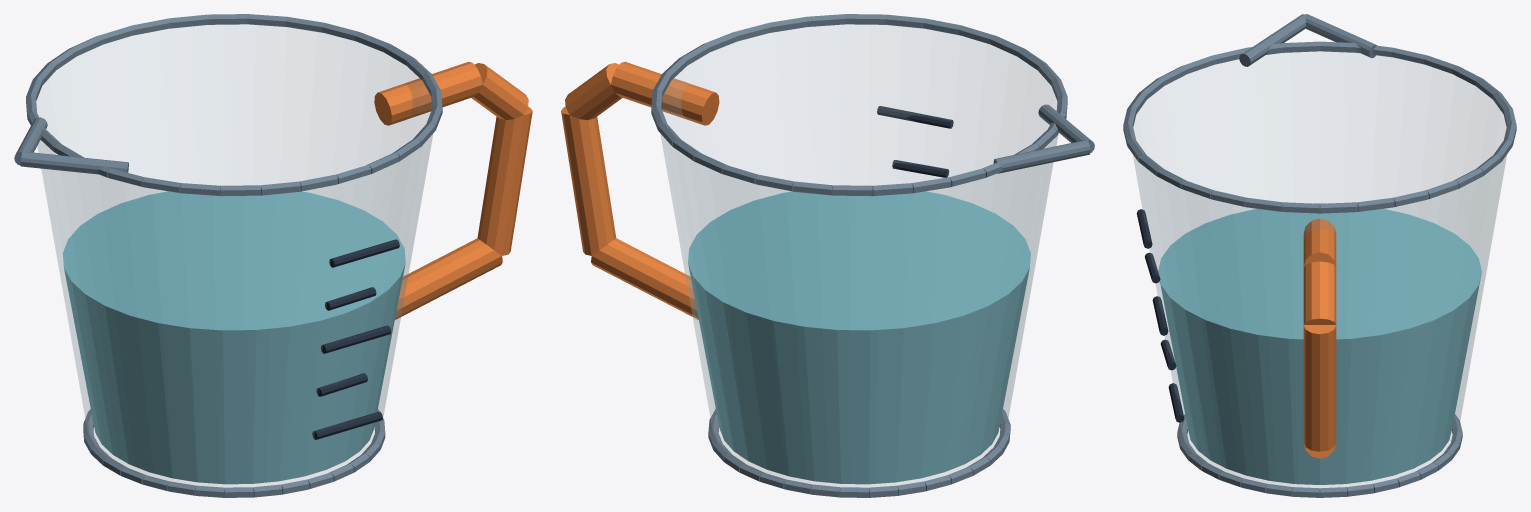
The model's file is jug.glb.
3 views of the same model, side by side, from view 1: azimuth 30°, elevation 25°; view 2: azimuth 150°, elevation 25°; view 3: azimuth 270°, elevation 25° (orthographic). The views are drawn at different scales.
Visible parts, largest first — view 1: glass wall, liquid, handle2, handle3, handle0, handle1, pour lip0, tick 4, tick 2, tick 0, pour lip1; view 2: glass wall, liquid, handle2, handle3, handle0, handle1, pour lip1, pour lip0, tick 4; view 3: glass wall, liquid, handle2, handle1, handle0, pour lip0, pour lip1.
Part boxes in pixels (x1,y1,x2,y2): glass wall: (37,25,432,487); liquid: (62,191,405,484); handle2: (477,107,532,255); handle3: (395,238,502,319); handle0: (374,61,482,125); handle1: (471,63,528,120); pour lip0: (20,151,128,174); tick 4: (329,239,399,267); tick 2: (320,325,391,353); tick 0: (312,411,382,439); pour lip1: (14,117,47,165); glass wall: (660,25,1058,487); liquid: (688,191,1030,484); handle2: (561,106,616,255); handle3: (591,238,698,319); handle0: (611,61,719,125); handle1: (565,63,622,120); pour lip1: (993,140,1090,173); pour lip0: (1038,104,1094,152); tick 4: (877,106,953,128); glass wall: (1133,52,1506,488); liquid: (1158,203,1481,484); handle2: (1303,325,1336,451); handle1: (1303,261,1336,324); handle0: (1303,218,1336,266); pour lip0: (1239,14,1306,66); pour lip1: (1305,14,1376,58).
Size of the model in its own units: 1.89 by 1.19 by 1.31.
